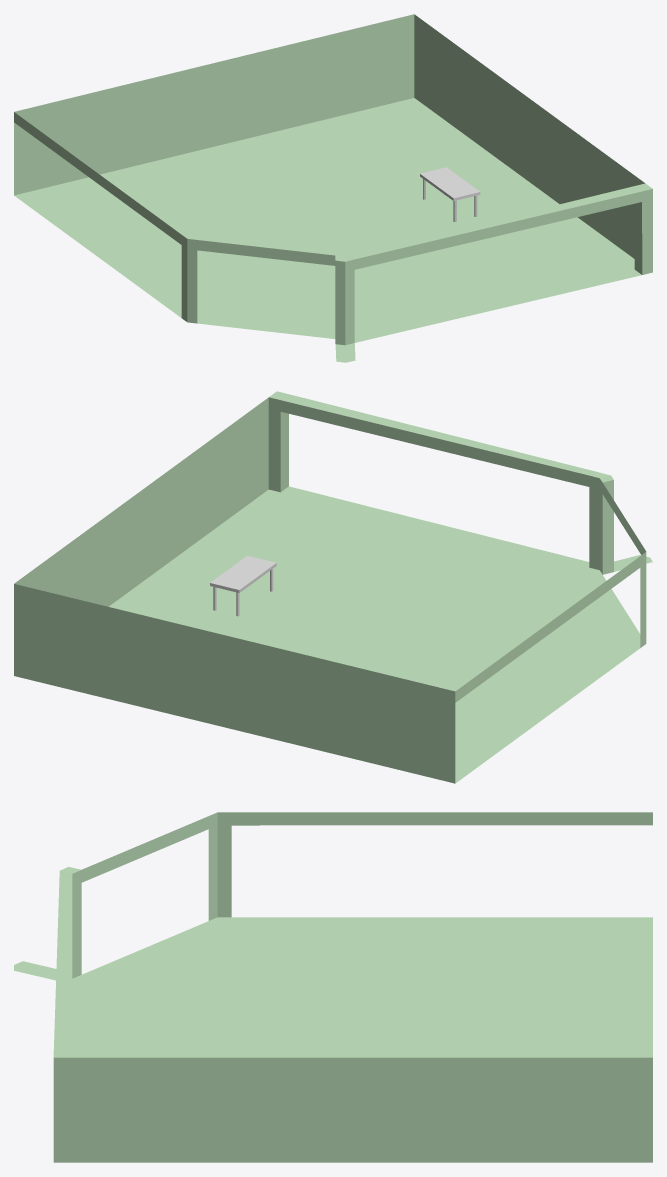
Rendered from space-2.glb.
The picture shows the model from 3 angles, top to bottom: view 1: azimuth 30°, elevation 25°; view 2: azimuth 150°, elevation 25°; view 3: azimuth 270°, elevation 25°; orthographic projection. The views are drawn at different scales.
Parts seen in each view (by area): view 1: 평면, Cube.001; view 2: 평면, Cube.001; view 3: 평면.
Part boxes in pixels (left/top/right/bottom): 평면: left=14, top=14, right=652, bottom=362; Cube.001: left=420, top=167, right=480, bottom=221; 평면: left=14, top=391, right=652, bottom=783; Cube.001: left=210, top=555, right=276, bottom=616; 평면: left=14, top=812, right=652, bottom=1162.
Bounding box in the file's own units: 136 × 27.09 × 149.
